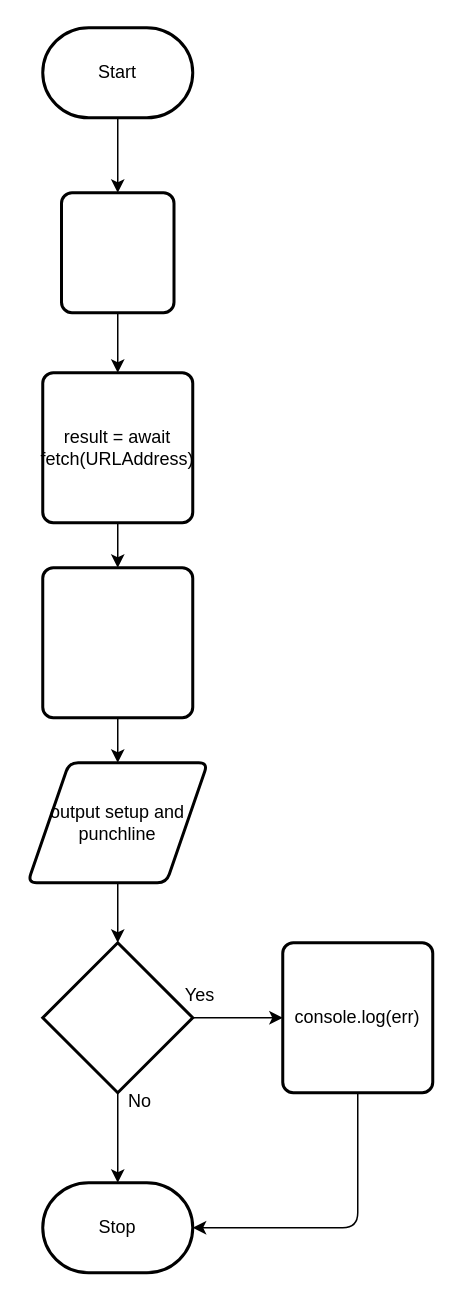
This 459x1299 diagram has some shape labels left out. Here are the shapes that lost their labels. From the top down, the centre of each, then its label:
At (117,252): "const getJoke".
At (117,642): "data = await result.json()".
At (117,1017): "catch (err)".
